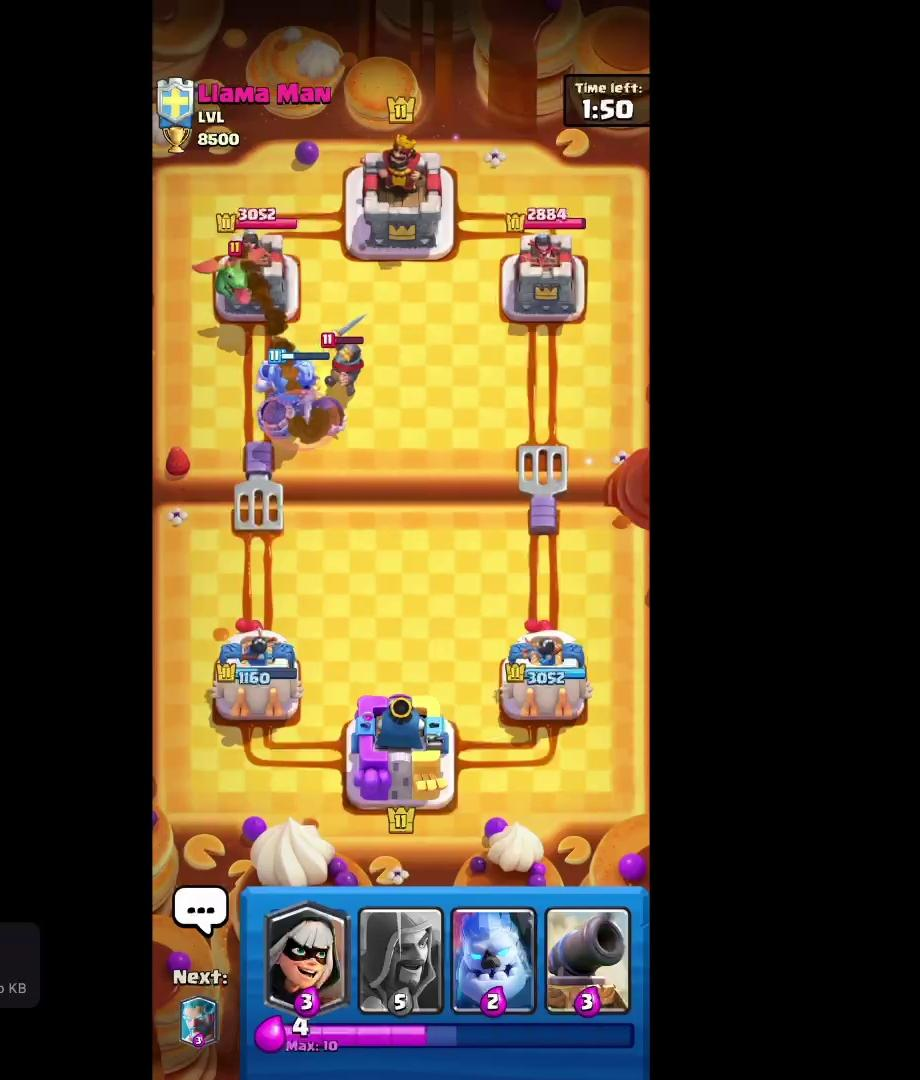Baby Dragon: (187, 239, 267, 304)
Knight: (311, 318, 370, 394)
